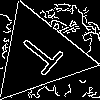T: (14, 30, 72, 83)
